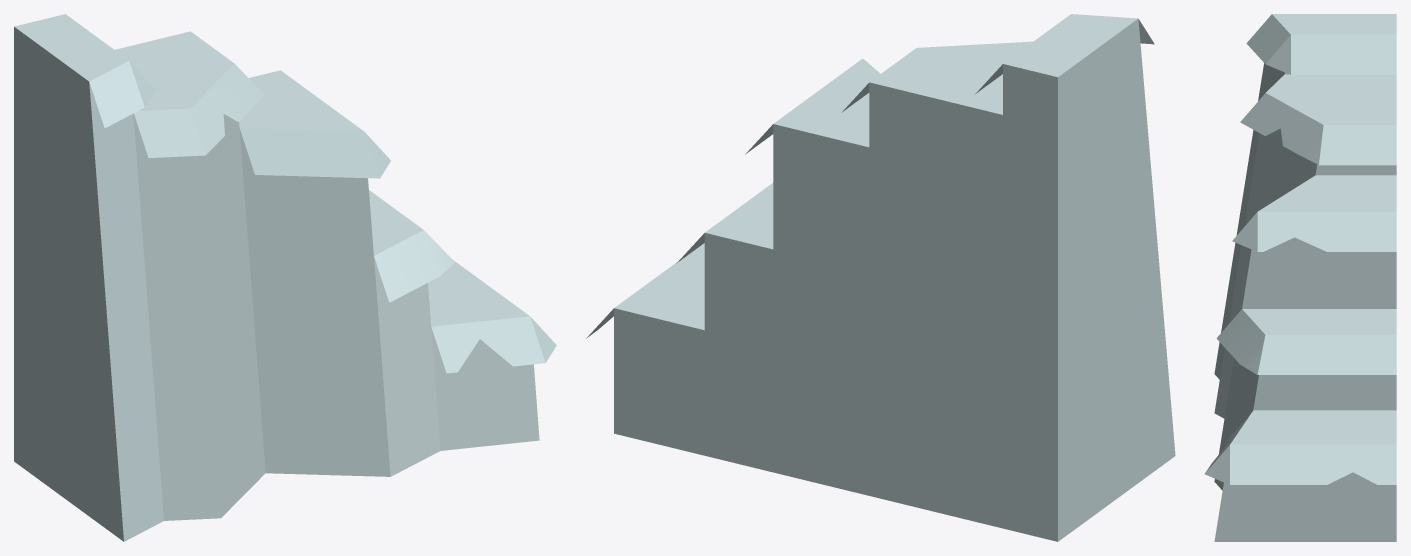
Rendered from cliffGrey_stepsEnd.fbx.
The picture shows the model from 3 angles, left to right: view 1: azimuth 30°, elevation 25°; view 2: azimuth 150°, elevation 25°; view 3: azimuth 270°, elevation 25°; orthographic projection. The views are drawn at different scales.
Parts seen in each view (by area): view 1: cliffGrey_stepsEnd; view 2: cliffGrey_stepsEnd; view 3: cliffGrey_stepsEnd.
Boxes of the visible parts, bbox=[...] form: cliffGrey_stepsEnd: bbox=[14, 14, 556, 541]; cliffGrey_stepsEnd: bbox=[586, 14, 1175, 541]; cliffGrey_stepsEnd: bbox=[1204, 14, 1396, 541].
Size of the model in its own units: 319 by 300 by 145.
